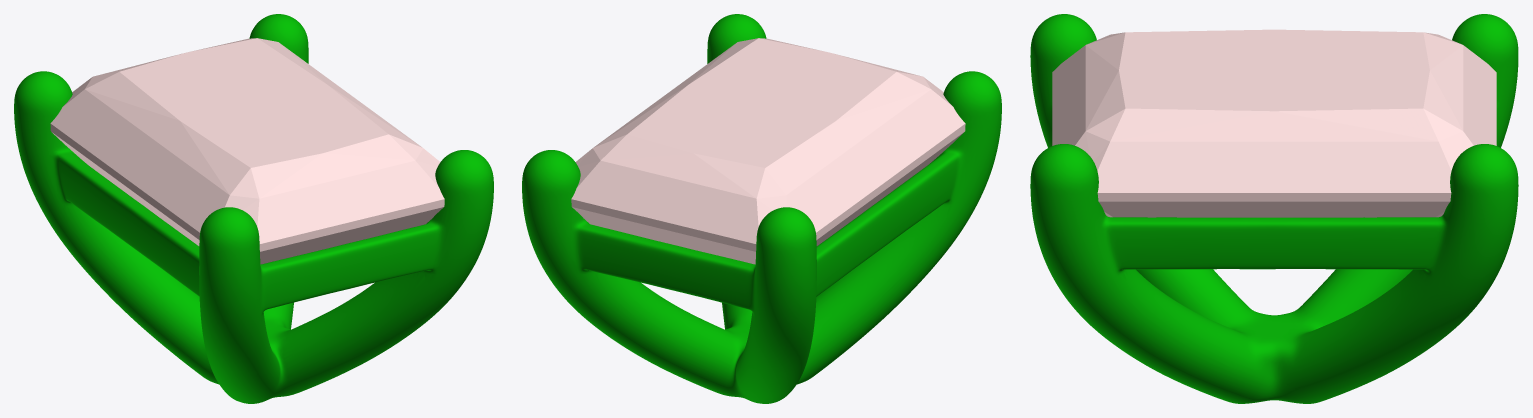
The picture shows the model from 3 angles, left to right: view 1: azimuth 30°, elevation 25°; view 2: azimuth 150°, elevation 25°; view 3: azimuth 270°, elevation 25°; orthographic projection. The views are drawn at different scales.
Parts seen in each view (by area): view 1: Metal01, Diamond_Radiant; view 2: Metal01, Diamond_Radiant; view 3: Metal01, Diamond_Radiant.
Boxes of the visible parts, x1,y1,x2,y2 form: Metal01: (14,14,493,403); Diamond_Radiant: (50,38,444,264); Metal01: (522,14,1001,403); Diamond_Radiant: (571,38,965,264); Metal01: (1030,14,1518,403); Diamond_Radiant: (1052,29,1496,217).
Bounding box in the file's own units: 5.82 × 5.47 × 7.58.
